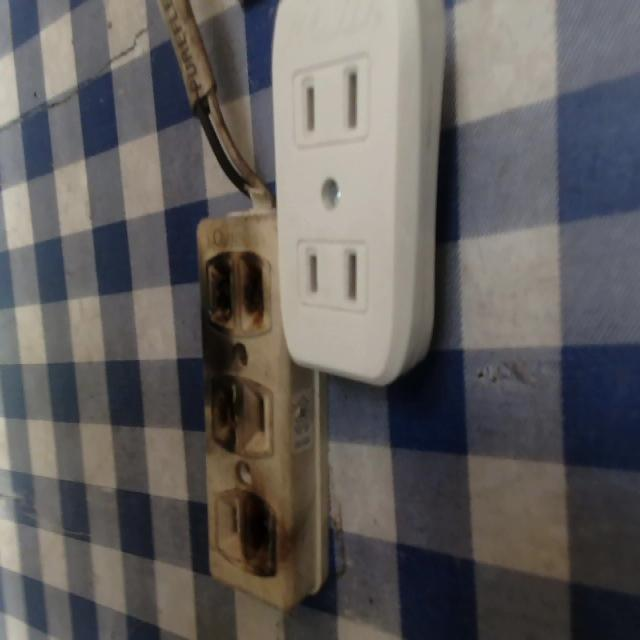-: (197, 243, 274, 348), (204, 372, 248, 467), (241, 481, 277, 575)
